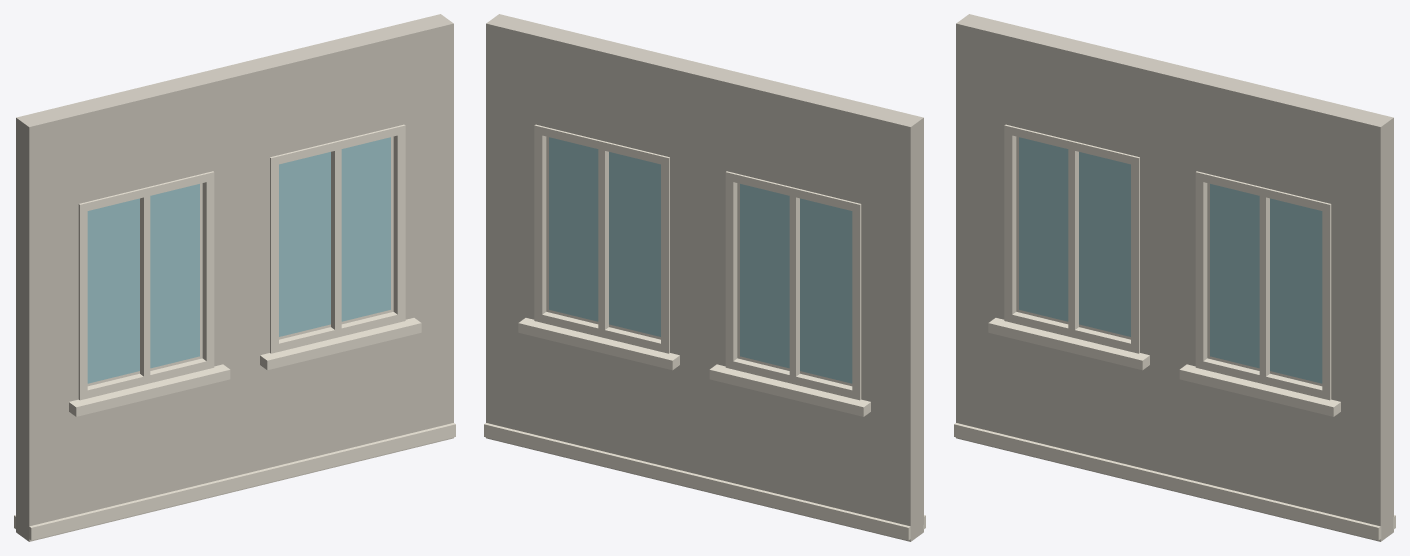
File: Wall_DoubleWindow_300.fbx
3 views of the same model, side by side, from view 1: azimuth 30°, elevation 25°; view 2: azimuth 150°, elevation 25°; view 3: azimuth 330°, elevation 25° (orthographic).
Parts seen in each view (by area): view 1: Wall_DoubleWindow_300; view 2: Wall_DoubleWindow_300; view 3: Wall_DoubleWindow_300.
Part boxes in pixels (box(x1,y1,x2,y2)): Wall_DoubleWindow_300: box(14, 14, 455, 541); Wall_DoubleWindow_300: box(484, 14, 925, 541); Wall_DoubleWindow_300: box(954, 14, 1395, 541).
Size of the model in its own units: 3 by 2.8 by 0.34.
